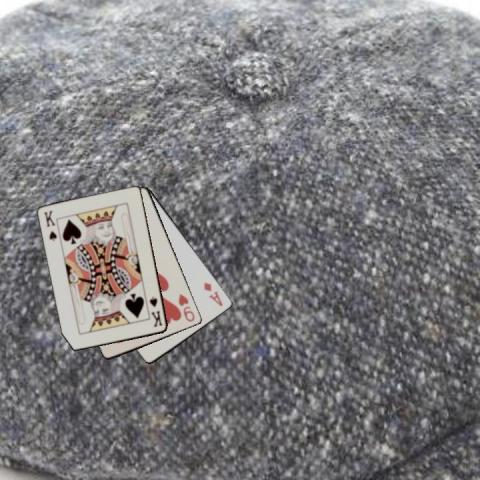9h: (175, 291, 197, 323)
Ad: (201, 279, 225, 308)
Ks: (41, 208, 59, 243), (147, 294, 164, 329)
